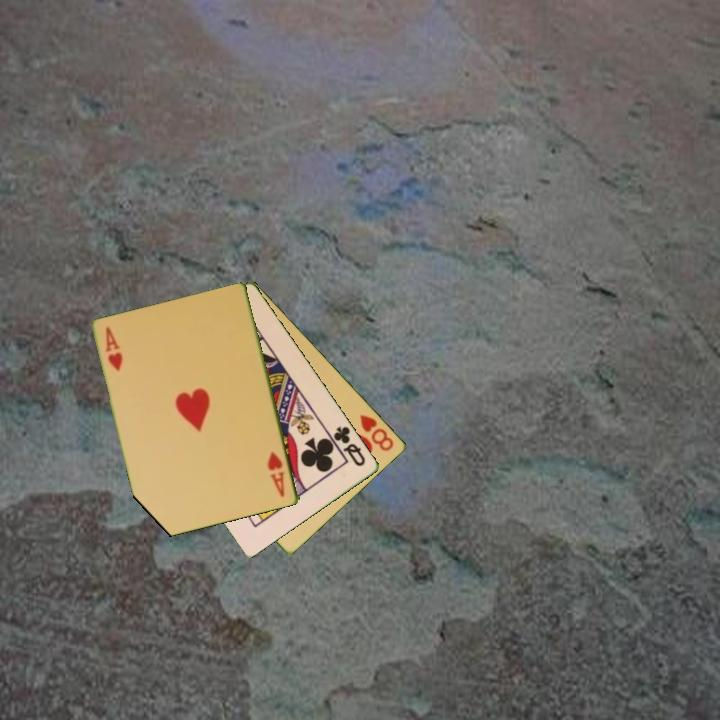8h: (356, 411, 397, 454)
Ah: (264, 448, 288, 500), (102, 323, 126, 374)
Qc: (326, 423, 369, 470)
